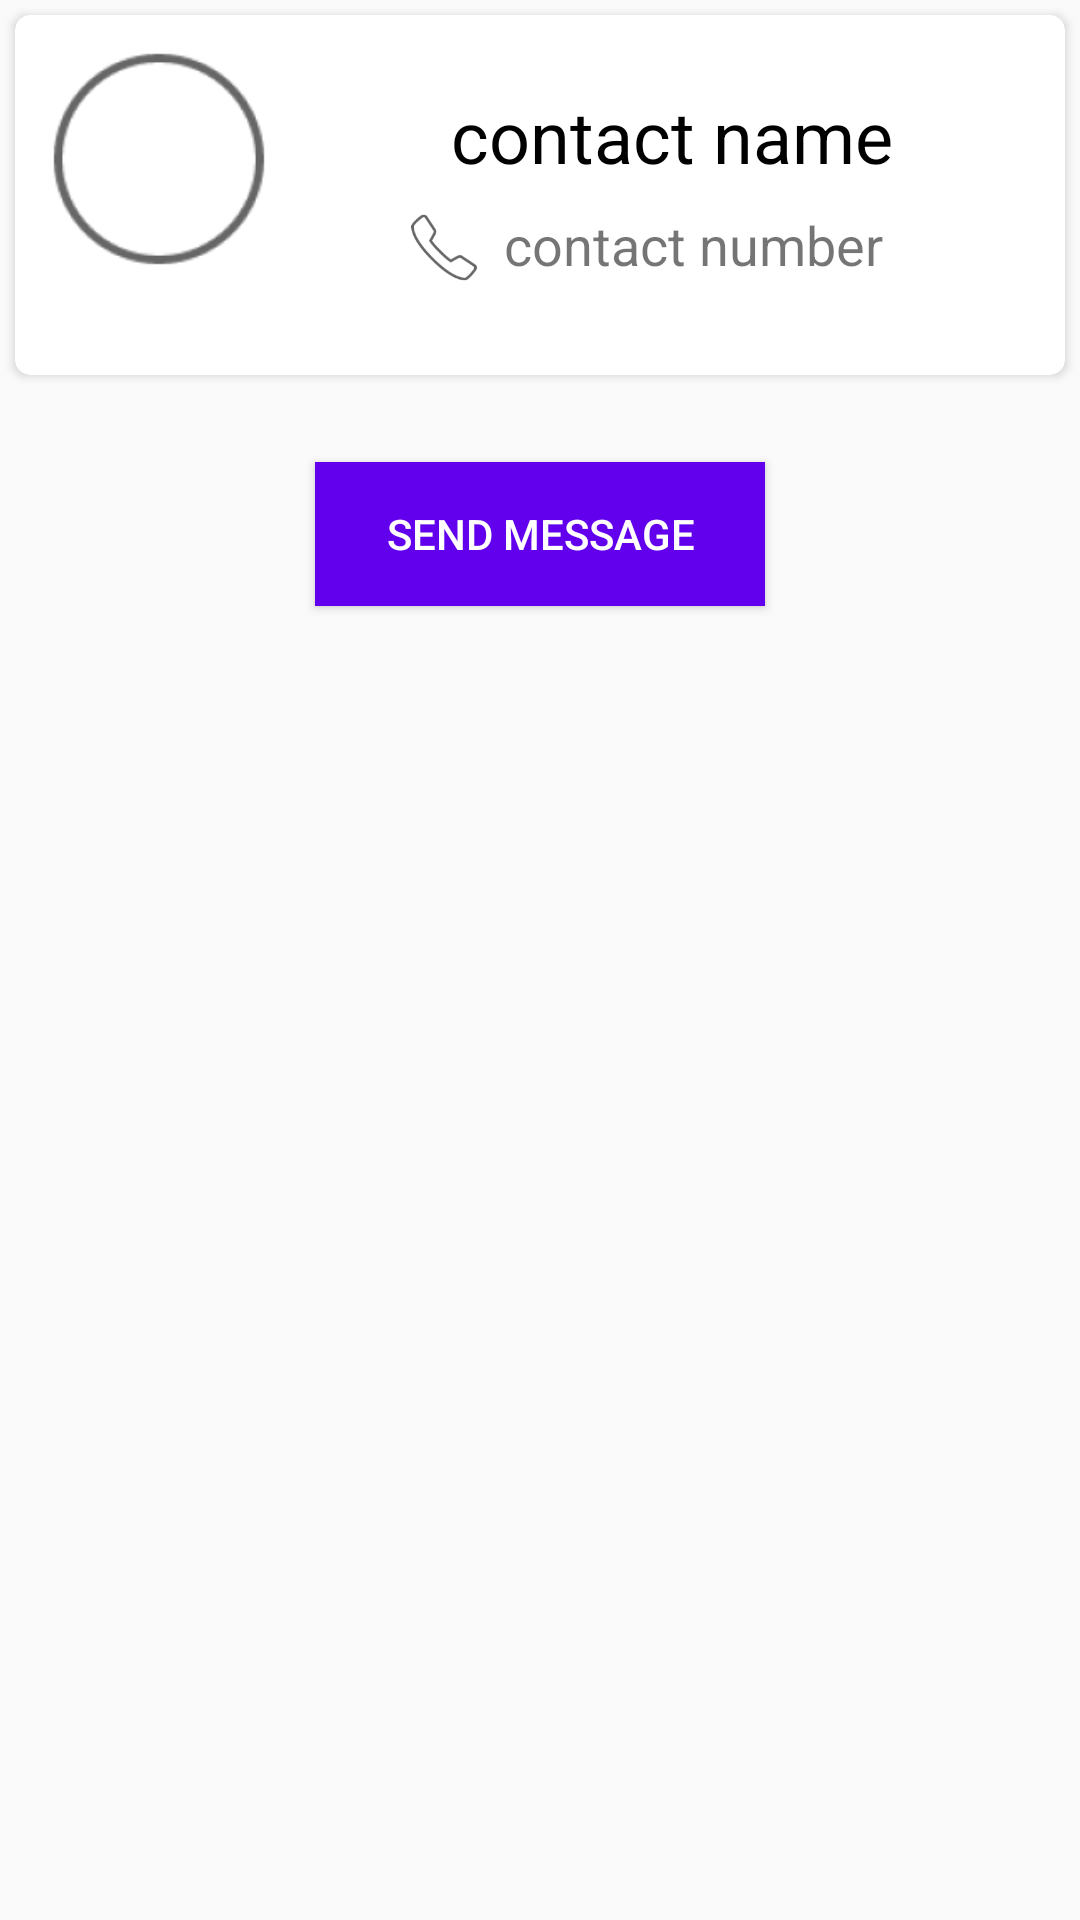

Icon click points for this 1080x1920 phone screenshot, format point (x, y):
call: point (444, 247)
